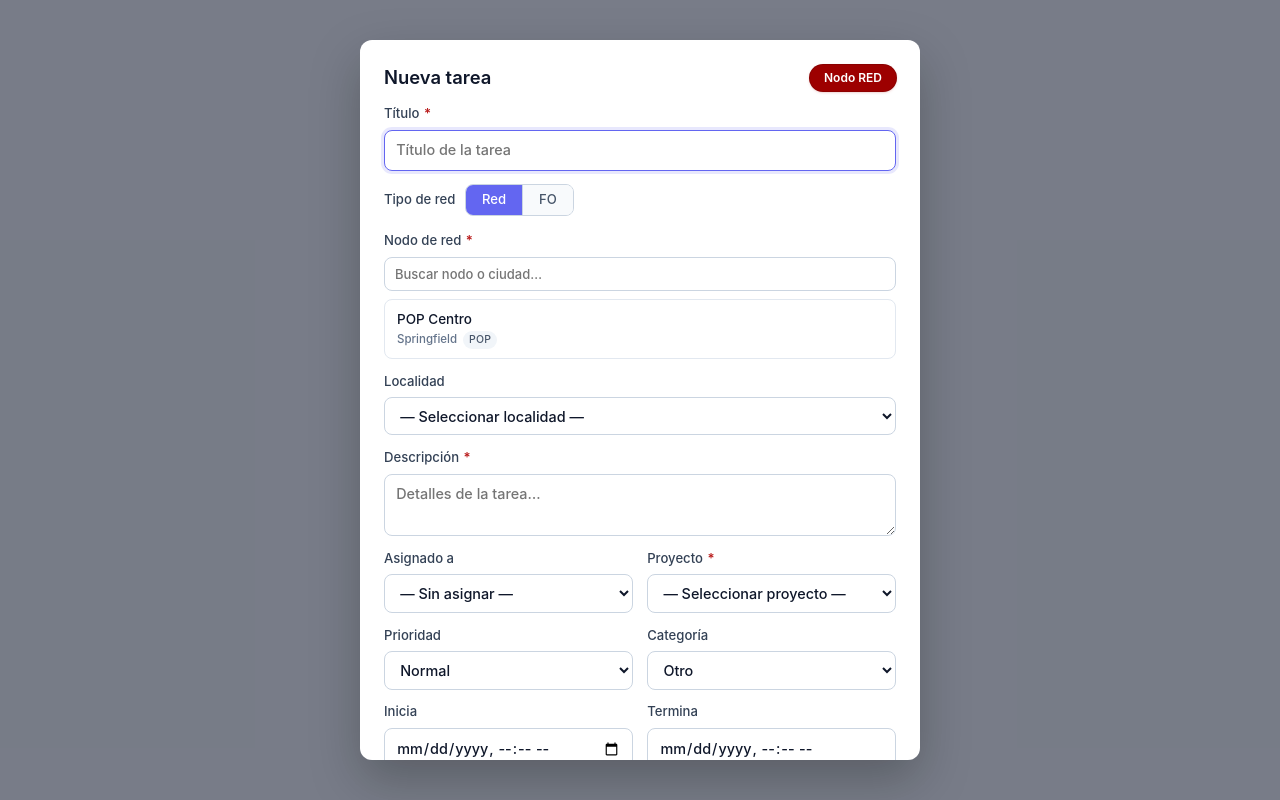
CreateTaskModal address prefill from NetworkSite (REQ-NTP-5) › prefills the address input when a site with an address is selected
The width and height of the screenshot is (1280, 800).
Click the text "POP Centro".
click(434, 319)  # box top-left (397, 311), bottom-right (472, 327)
(page scrolled)
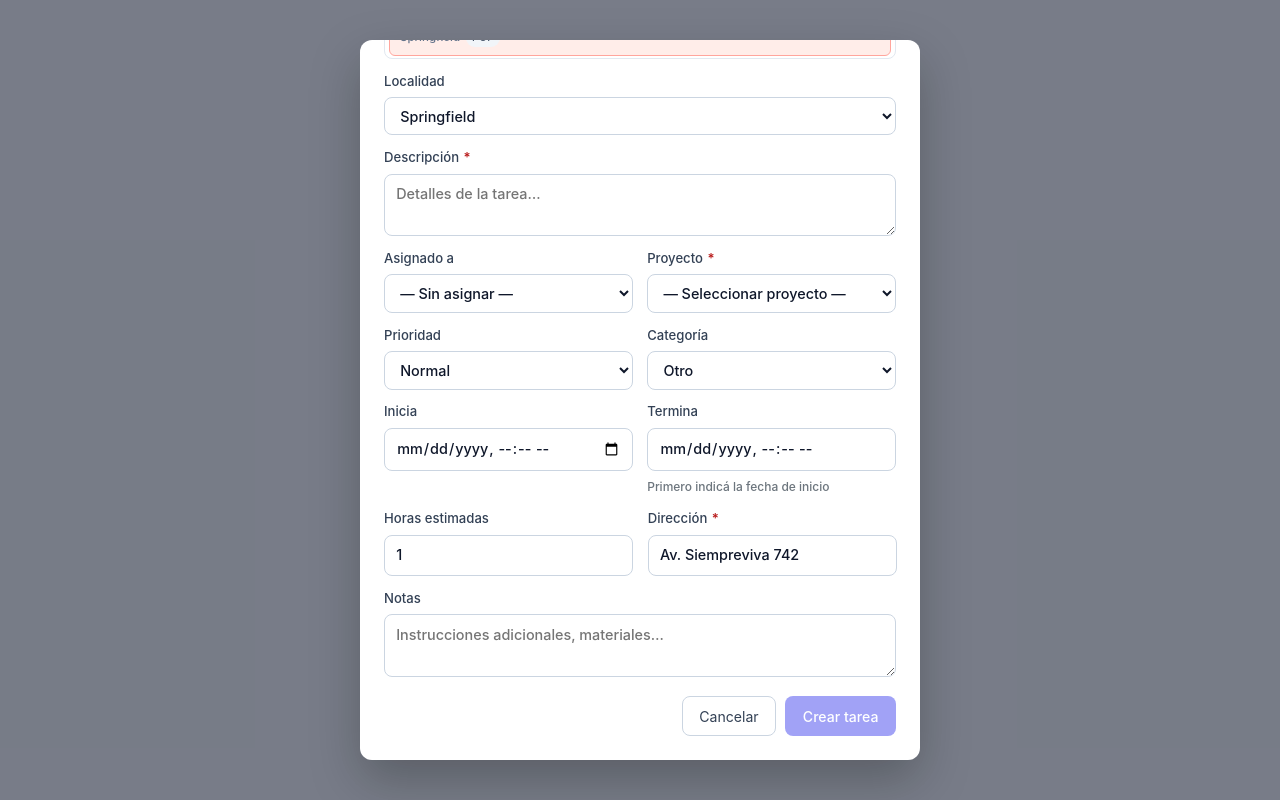
Now the field with placeholder "Dirección del trabajo" holds "Av. Siempreviva 742", box top-left (648, 535), bottom-right (897, 576)
